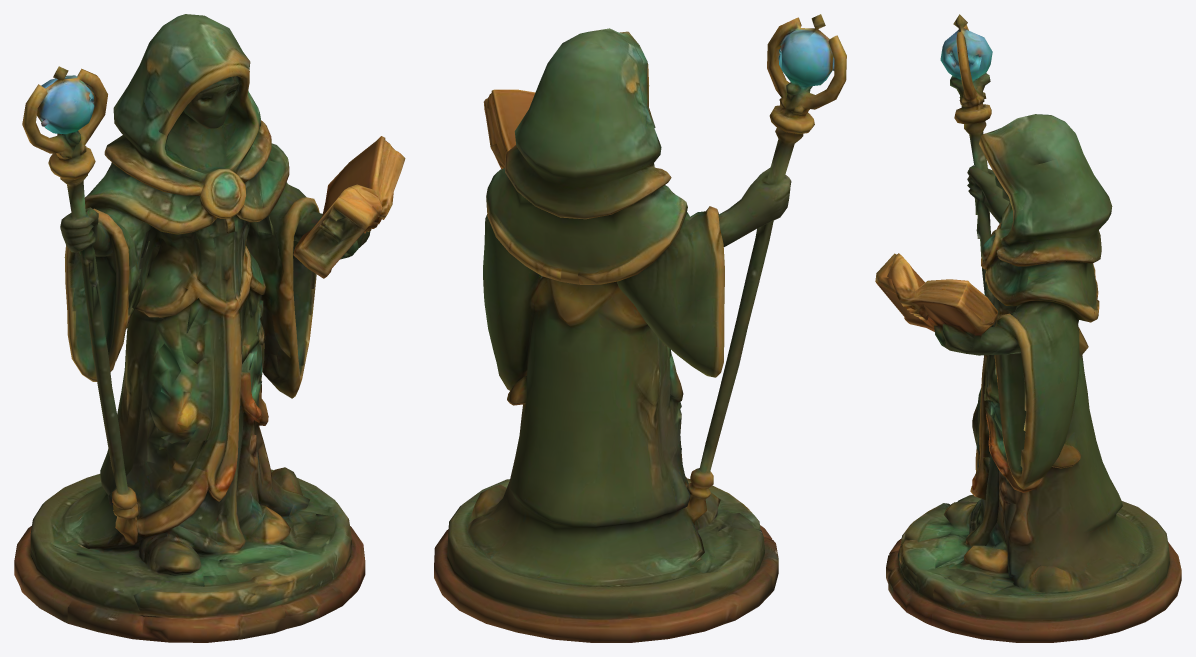
3 views of the same model, side by side, from view 1: azimuth 30°, elevation 25°; view 2: azimuth 150°, elevation 25°; view 3: azimuth 270°, elevation 25° (orthographic). The views are drawn at different scales.
Visible parts, largest first — view 1: tripo_node_befc2bbf-9db1-4947-9702-8c1fb4ff644a; view 2: tripo_node_befc2bbf-9db1-4947-9702-8c1fb4ff644a; view 3: tripo_node_befc2bbf-9db1-4947-9702-8c1fb4ff644a.
Boxes of the visible parts, x1=… form: tripo_node_befc2bbf-9db1-4947-9702-8c1fb4ff644a: x1=14, y1=14, x2=405, y2=642; tripo_node_befc2bbf-9db1-4947-9702-8c1fb4ff644a: x1=434, y1=14, x2=846, y2=642; tripo_node_befc2bbf-9db1-4947-9702-8c1fb4ff644a: x1=875, y1=14, x2=1181, y2=642.
Bounding box in the file's own units: 0.6751 × 1 × 0.5616.
Materials: 1 (1 with a texture image).
